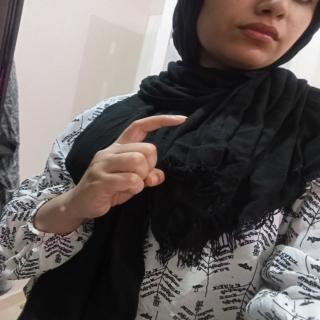RAA: (56, 100, 192, 228)
